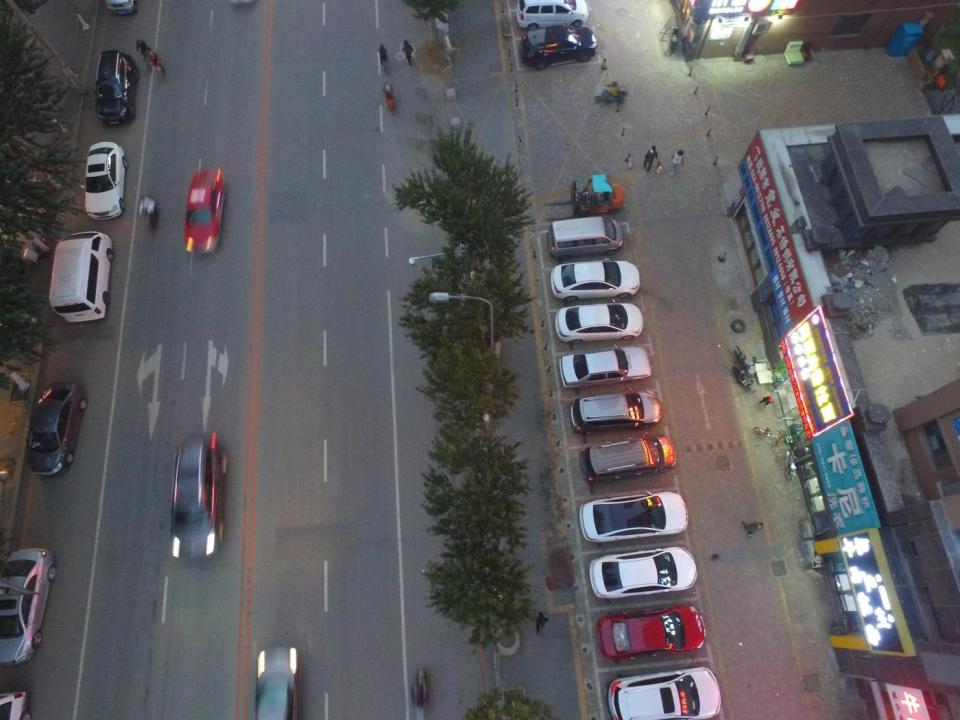car: (170, 434, 229, 564), (0, 544, 53, 666), (598, 602, 707, 660), (588, 551, 699, 606), (24, 380, 86, 477), (578, 492, 690, 543), (183, 168, 226, 260), (82, 140, 130, 217), (554, 299, 644, 340), (557, 348, 651, 386), (251, 648, 302, 716), (549, 263, 643, 299), (521, 25, 594, 70)
van: (606, 667, 723, 720), (49, 231, 114, 320), (582, 434, 677, 485), (569, 391, 663, 434), (96, 48, 138, 126), (549, 218, 624, 260), (515, 0, 588, 29)
